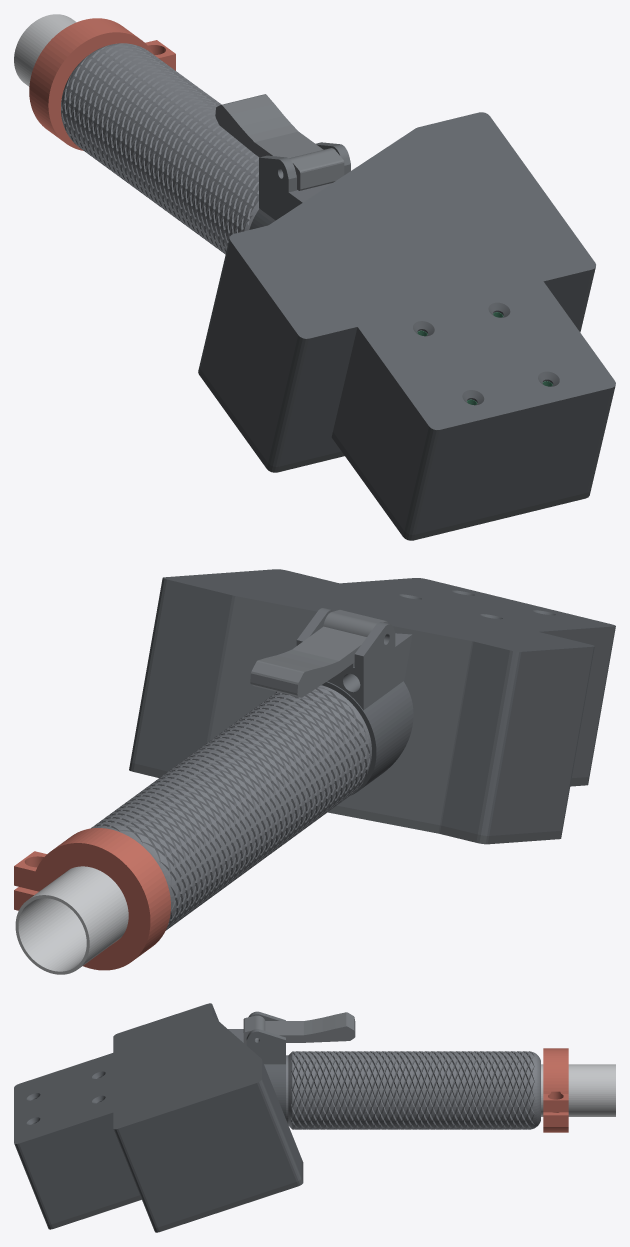
Rendered from HueyHead_Rev2_Assembly.glb.
3 views of the same model, one above another, from view 1: azimuth 30°, elevation 25°; view 2: azimuth 150°, elevation 25°; view 3: azimuth 270°, elevation 25° (orthographic). The views are drawn at different scales.
Parts seen in each view (by area): view 1: body, grip, friction, trigger, mount, tube, upper, lower; view 2: body, grip, friction, tube, trigger, mount, lower; view 3: body, grip, tube, trigger, friction, mount, lower, upper.
Boxes of the visible parts, <box> form: body: <box>199,112,615,534</box>; grip: <box>61,43,259,254</box>; friction: <box>29,18,175,150</box>; trigger: <box>215,94,344,190</box>; mount: <box>259,142,350,220</box>; tube: <box>14,14,76,86</box>; upper: <box>331,432,590,540</box>; lower: <box>198,366,344,472</box>; body: <box>130,569,615,835</box>; grip: <box>90,685,371,930</box>; friction: <box>14,828,170,970</box>; tube: <box>15,866,128,974</box>; trigger: <box>250,610,387,697</box>; mount: <box>296,608,412,710</box>; lower: <box>129,762,562,844</box>; body: <box>14,1003,301,1227</box>; grip: <box>286,1051,540,1129</box>; tube: <box>541,1064,615,1116</box>; trigger: <box>243,1012,355,1045</box>; friction: <box>543,1048,568,1132</box>; mount: <box>228,1011,285,1064</box>; lower: <box>153,1159,303,1232</box>; upper: <box>47,1195,141,1229</box>.
Size of the model in its own units: 107 by 89.93 by 285.
